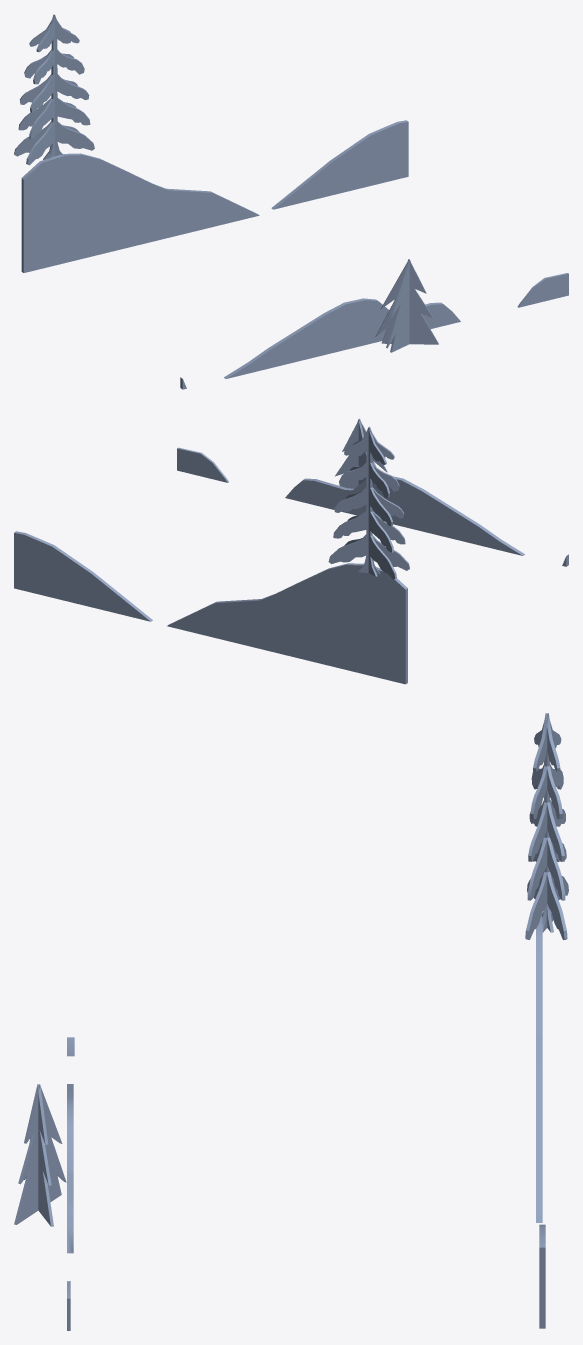
File: frame_0111.glb
3 views of the same model, one above another, from view 1: azimuth 30°, elevation 25°; view 2: azimuth 150°, elevation 25°; view 3: azimuth 270°, elevation 25° (orthographic). The views are drawn at different scales.
Parts seen in each view (by area): view 1: export_trees_001.002; view 2: export_trees_001.002; view 3: export_trees_001.002.
Part boxes in pixels (box(x1,y1,x2,y2)): export_trees_001.002: box(14, 14, 568, 389); export_trees_001.002: box(14, 418, 568, 684); export_trees_001.002: box(14, 713, 568, 1330).
Size of the model in its own units: 0.4327 by 0.2648 by 0.3654.
